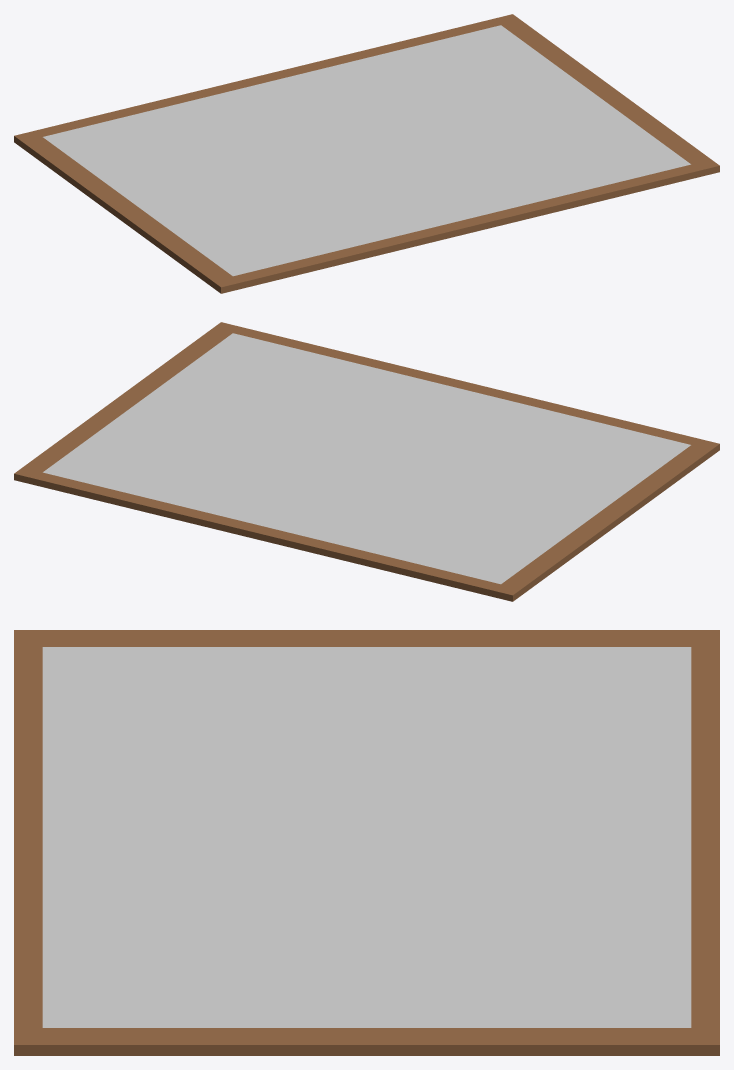
The model's file is sobresecado.fbx.
3 views of the same model, one above another, from view 1: azimuth 30°, elevation 25°; view 2: azimuth 150°, elevation 25°; view 3: azimuth 270°, elevation 25° (orthographic). The views are drawn at different scales.
Parts seen in each view (by area): view 1: Plane; view 2: Plane; view 3: Plane.
Boxes of the visible parts, left/top/right/bottom form: Plane: left=14, top=14, right=719, bottom=293; Plane: left=14, top=322, right=719, bottom=601; Plane: left=14, top=630, right=719, bottom=1055.
Bounding box in the file's own units: 1217 × 15.1 × 875.
